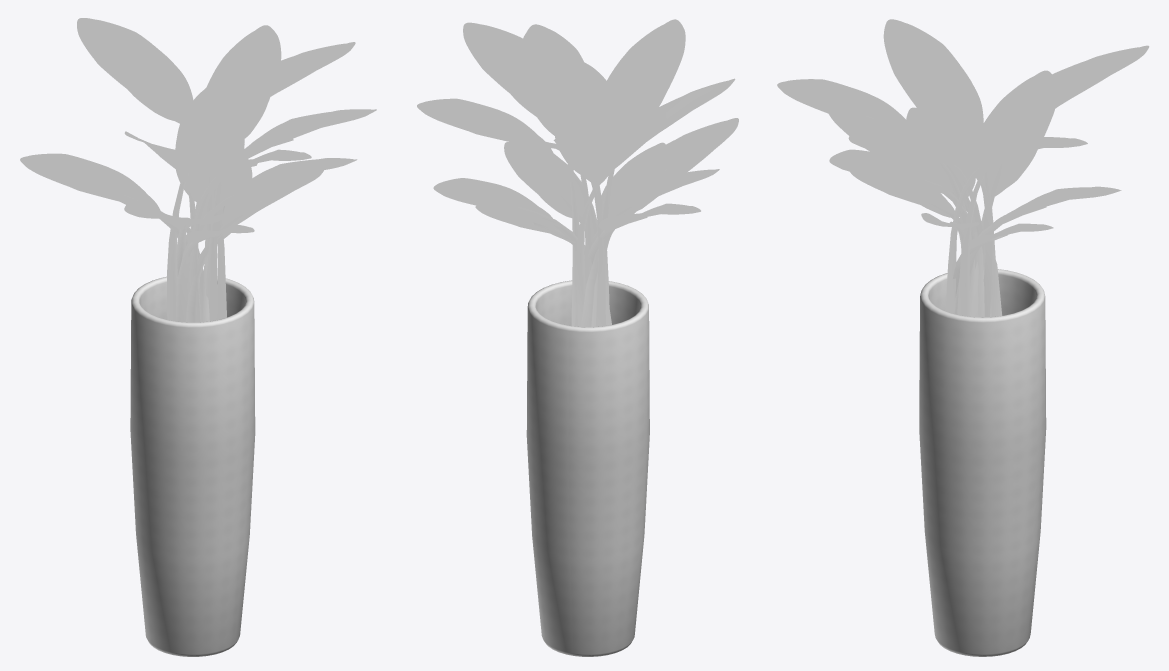
Rendered from SM_Plant_02.fbx.
3 renders of one model, left to right at view 1: azimuth 30°, elevation 25°; view 2: azimuth 150°, elevation 25°; view 3: azimuth 270°, elevation 25°, orthographic. The views are drawn at different scales.
Visible parts, largest first — view 1: SM_Plant_02; view 2: SM_Plant_02; view 3: SM_Plant_02.
Boxes of the visible parts, x1,y1,x2,y2 form: SM_Plant_02: [20, 18, 376, 656]; SM_Plant_02: [417, 19, 738, 656]; SM_Plant_02: [777, 19, 1149, 656].
Bounding box in the file's own units: 86.91 × 163 × 96.38.
